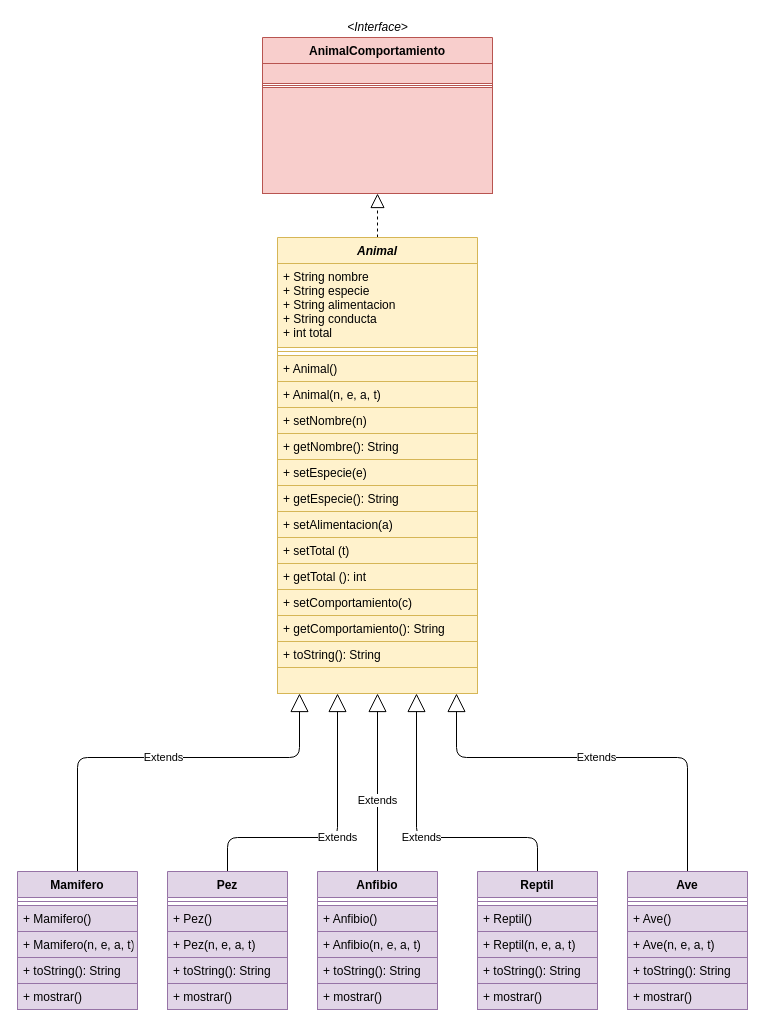
Some shapes in this 765 by 1029 pixel diagram are drawn without their labels. The shapes that lost their labels are listed below. From the top down, each one's centre as x and y in pixels, then its label:
At point 377,73: "+ Comportamiento".
At point 377,140: "+ setComportamiento(Comportamiento) + getComportamiento(): String".
At point 377,680: "+ mostrar():".
